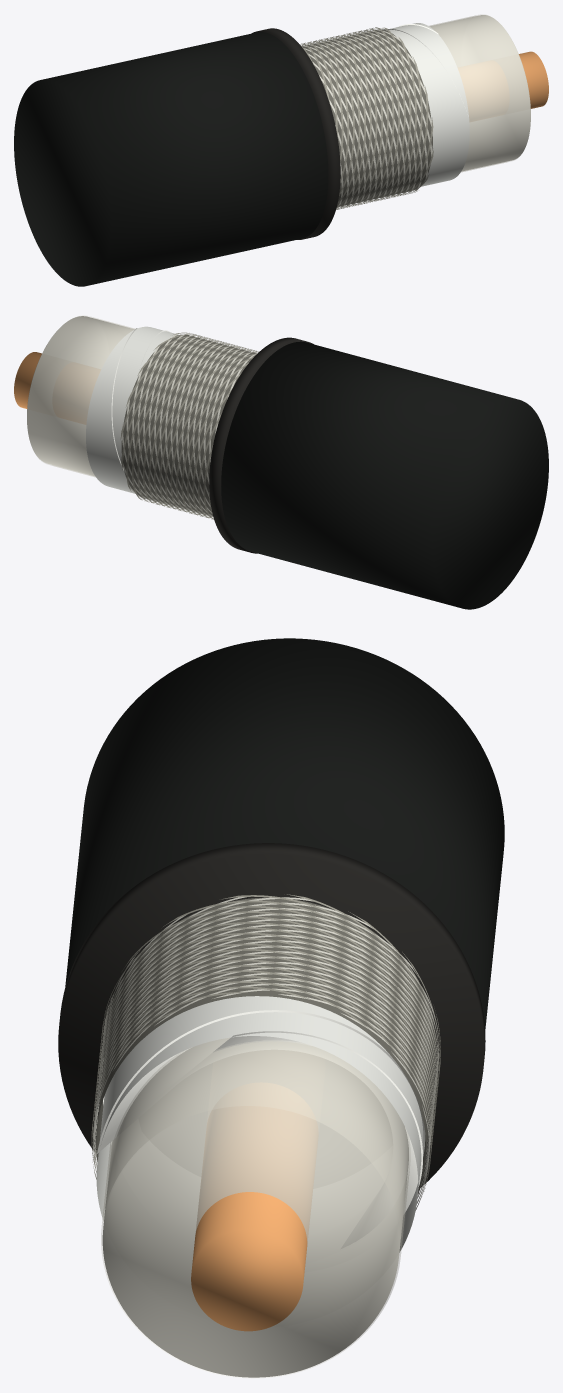
File: rf-belden9913.glb
3 views of the same model, one above another, from view 1: azimuth 30°, elevation 25°; view 2: azimuth 150°, elevation 25°; view 3: azimuth 270°, elevation 25° (orthographic). The views are drawn at different scales.
Visible parts, largest first — view 1: matte black pvc jacket body, braid dark diamond recess, smooth dielectric skin, gas injected foam dielectric, duobond foil sleeve, jacket cut lip, solid center conductor continuous, braid left hand woven carrier 11, braid left hand woven carrier 12, braid left hand woven carrier 13, braid left hand woven carrier 14, braid left hand woven carrier 06 (+15 smaller); view 2: matte black pvc jacket body, braid dark diamond recess, smooth dielectric skin, gas injected foam dielectric, duobond foil sleeve, jacket cut lip, solid center conductor continuous, braid left hand woven carrier 06, braid left hand woven carrier 07, braid left hand woven carrier 08, braid left hand woven carrier 02, braid left hand woven carrier 16 (+11 smaller); view 3: matte black pvc jacket body, gas injected foam dielectric, jacket cut lip, solid center conductor continuous, braid dark diamond recess, smooth dielectric skin, duobond foil sleeve, subtle foil wrap lap, braid left hand woven carrier 09, braid left hand woven carrier 07, braid left hand woven carrier 08, braid left hand woven carrier 10 (+20 smaller).
Boxes of the visible parts, <box> form: matte black pvc jacket body: <box>14,32,328,286</box>; braid dark diamond recess: <box>301,29,432,206</box>; smooth dielectric skin: <box>429,14,530,172</box>; gas injected foam dielectric: <box>430,15,530,171</box>; duobond foil sleeve: <box>386,23,469,186</box>; jacket cut lip: <box>251,28,340,239</box>; solid center conductor continuous: <box>519,51,548,108</box>; braid left hand woven carrier 11: <box>299,43,422,200</box>; braid left hand woven carrier 12: <box>302,42,428,199</box>; braid left hand woven carrier 13: <box>310,41,433,198</box>; braid left hand woven carrier 14: <box>313,39,433,196</box>; braid left hand woven carrier 06: <box>344,30,394,206</box>; matte black pvc jacket body: <box>221,341,548,609</box>; braid dark diamond recess: <box>121,334,255,516</box>; smooth dielectric skin: <box>27,315,134,477</box>; gas injected foam dielectric: <box>27,316,134,476</box>; duobond foil sleeve: <box>86,326,178,493</box>; jacket cut lip: <box>209,337,313,553</box>; solid center conductor continuous: <box>14,352,41,408</box>; braid left hand woven carrier 06: <box>120,338,223,519</box>; braid left hand woven carrier 07: <box>125,337,222,519</box>; braid left hand woven carrier 08: <box>137,335,232,517</box>; braid left hand woven carrier 02: <box>137,344,246,502</box>; braid left hand woven carrier 16: <box>148,347,257,505</box>; matte black pvc jacket body: <box>65,638,504,1029</box>; gas injected foam dielectric: <box>102,1037,408,1377</box>; jacket cut lip: <box>58,843,485,1187</box>; solid center conductor continuous: <box>191,1106,318,1331</box>; braid dark diamond recess: <box>96,897,436,1194</box>; smooth dielectric skin: <box>101,1038,410,1378</box>; duobond foil sleeve: <box>96,996,423,1252</box>; subtle foil wrap lap: <box>97,1010,425,1248</box>; braid left hand woven carrier 09: <box>93,900,437,1122</box>; braid left hand woven carrier 07: <box>95,894,439,1123</box>; braid left hand woven carrier 08: <box>94,895,438,1118</box>; braid left hand woven carrier 10: <box>93,906,437,1148</box>.
Size of the model in its own units: 6.56 by 2.6 by 2.72.
